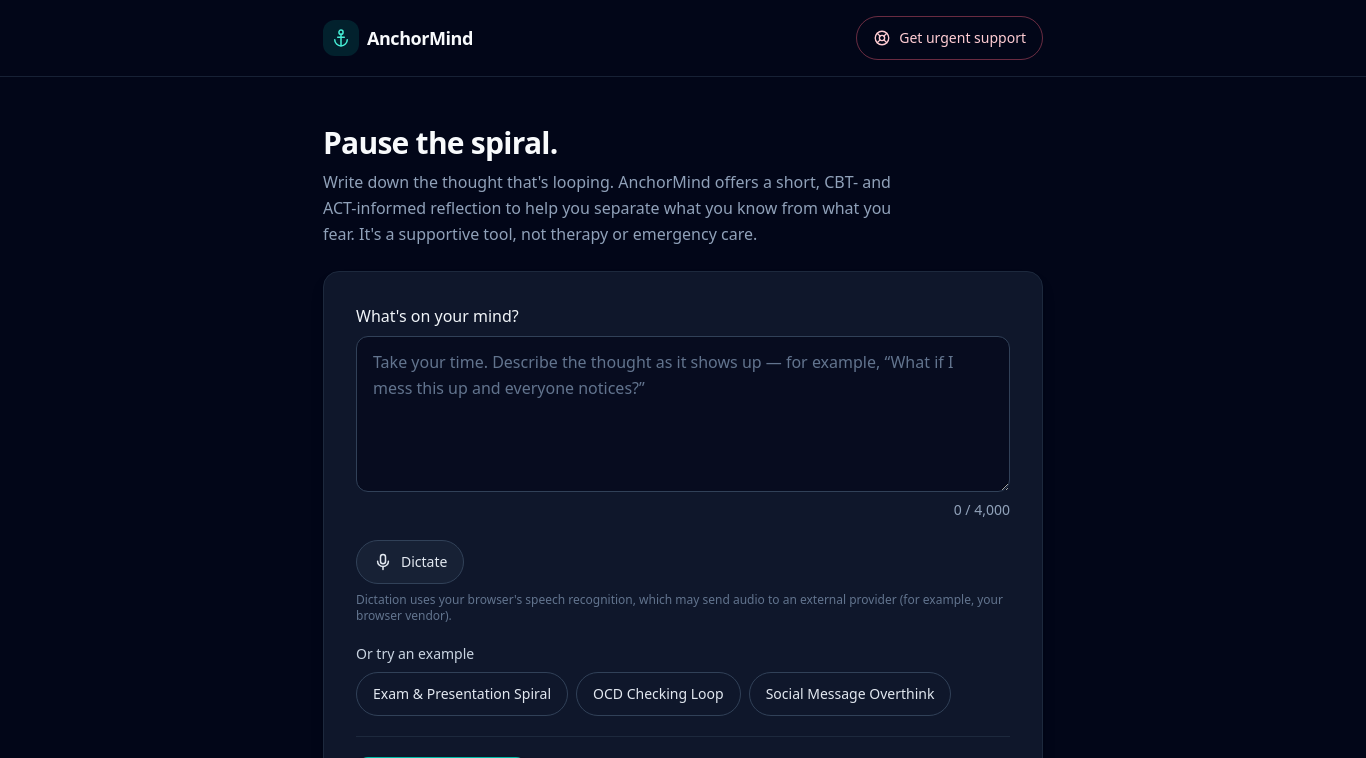
Test case: Home page flow › keeps text after an error and retries
The image size is (1366, 758).
Replace the text in the text box labelled "What's on your mind?" with "my thought": (683, 414) left=356, top=336, right=1010, bottom=492
(page scrolled)
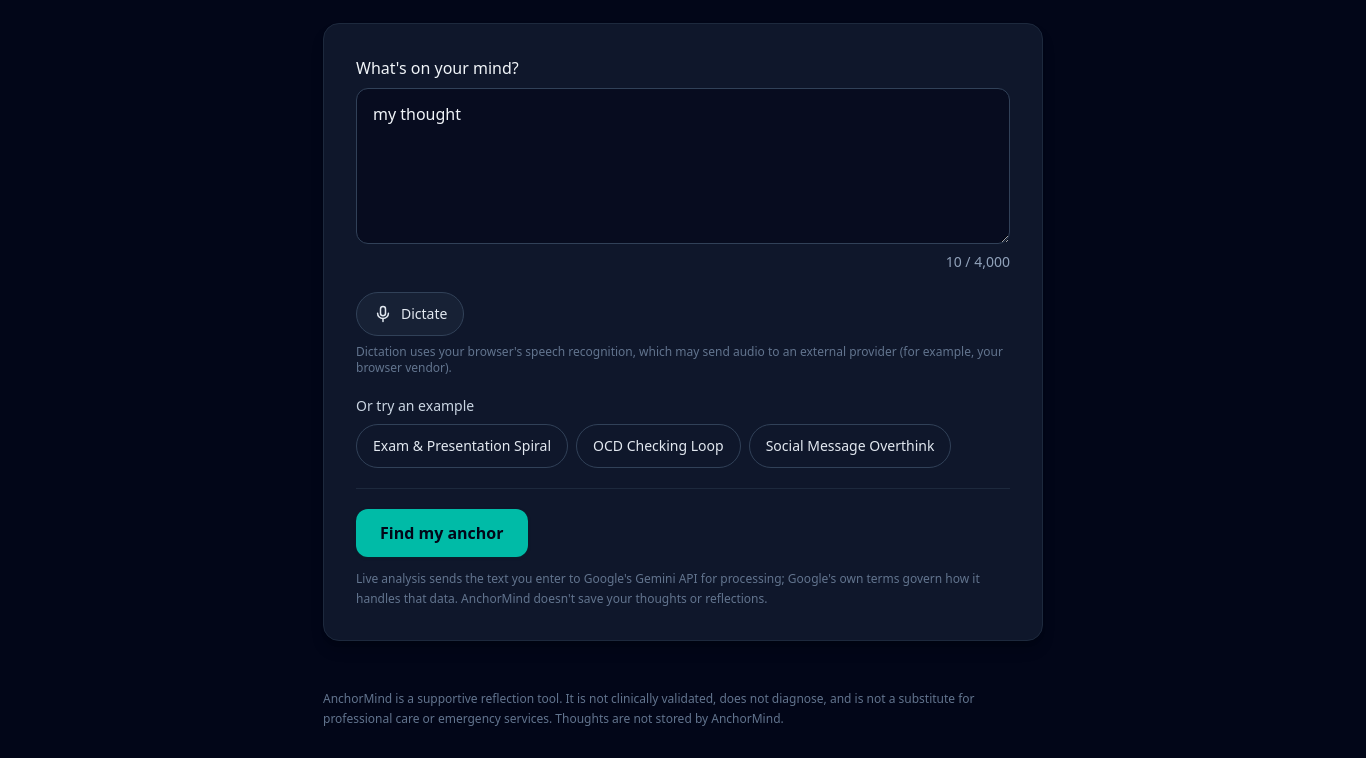
Click the button "Find my anchor": (442, 533) left=356, top=509, right=528, bottom=557
(page scrolled)
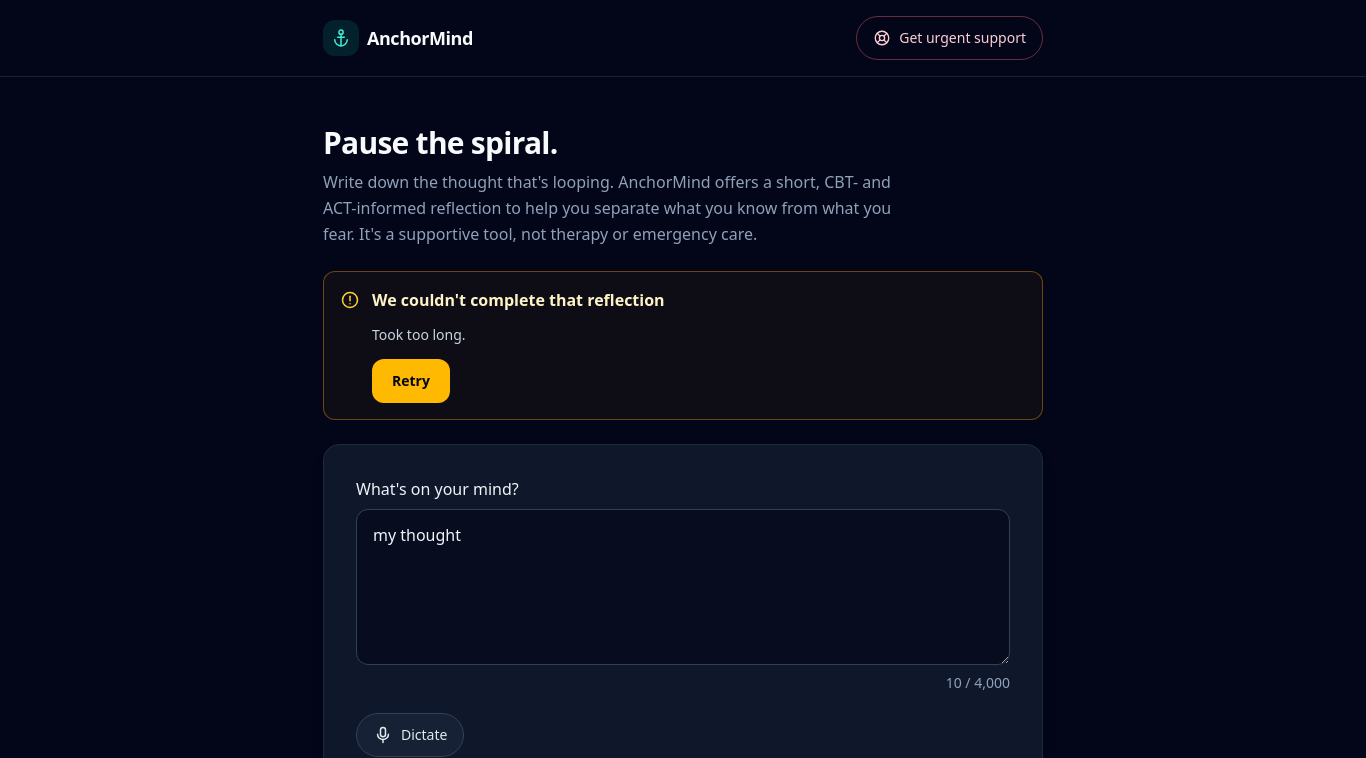
Expected: the text "Took too long." is shown, left=372, top=325, right=466, bottom=344
Click the button "Retry": (411, 381) left=372, top=359, right=450, bottom=403
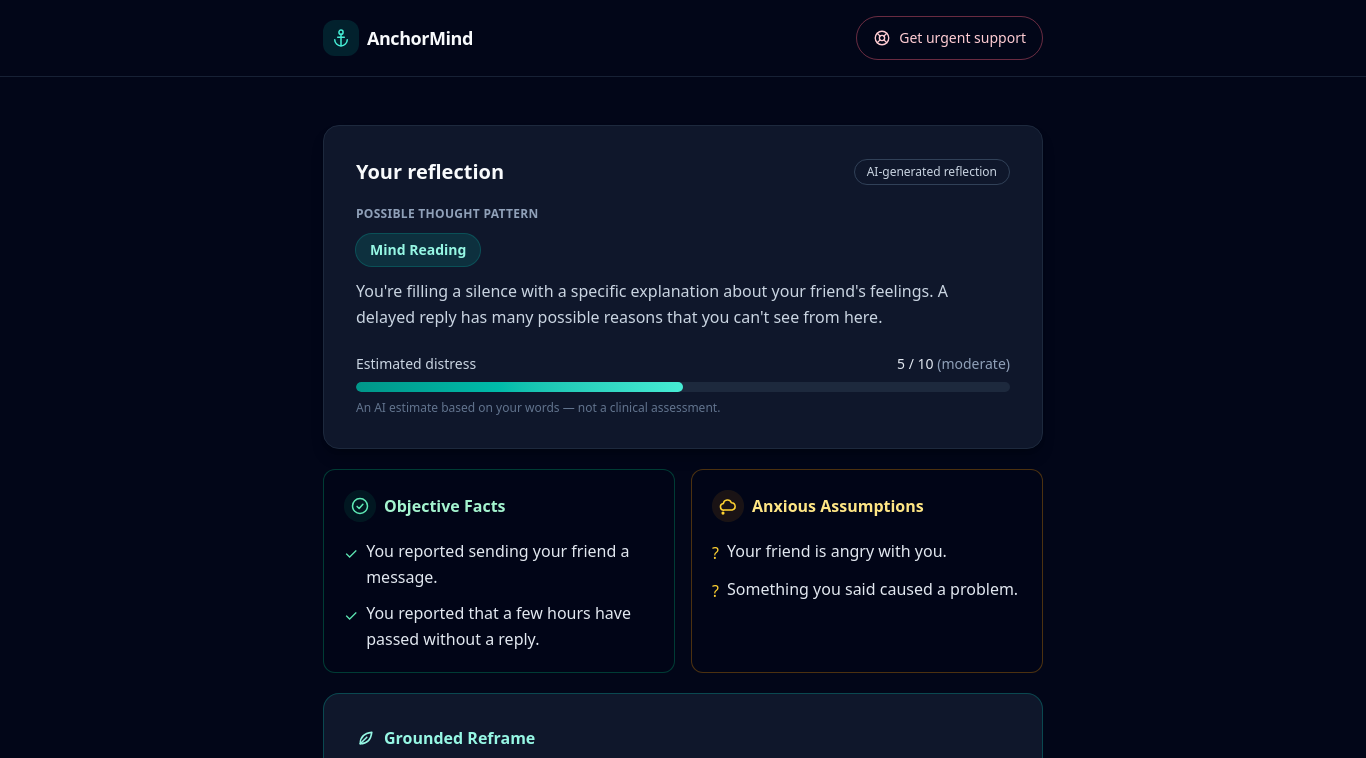
Expected: the text "AI-generated reflection" is shown, left=854, top=159, right=1010, bottom=185
